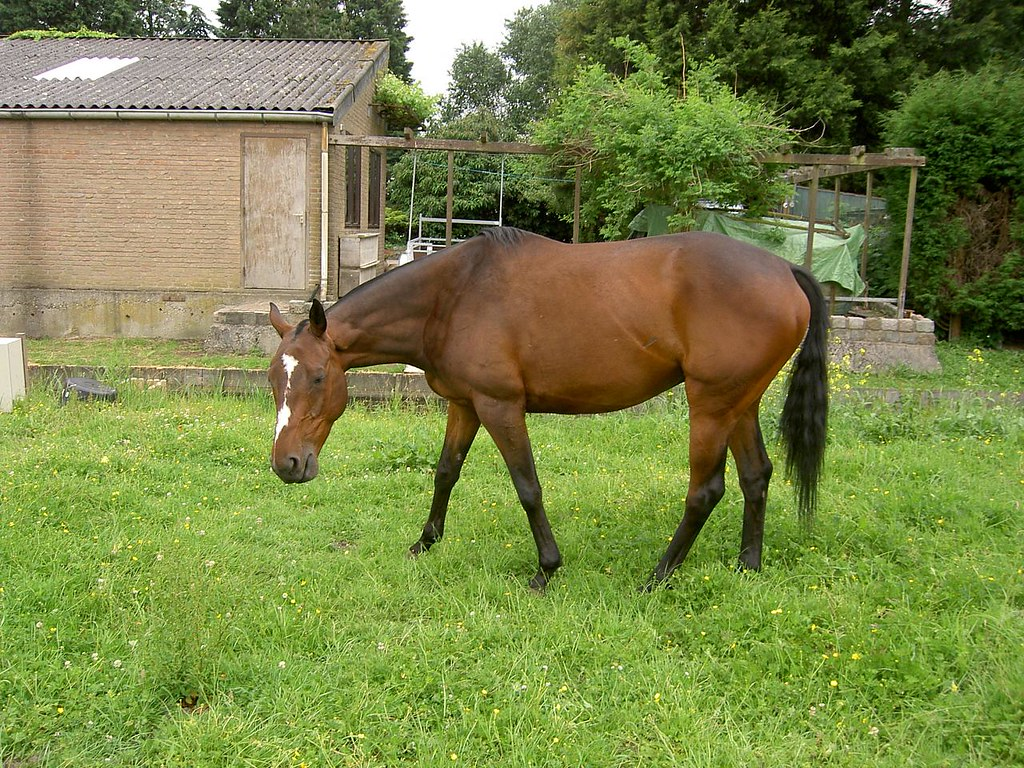horse: (262, 220, 832, 598)
